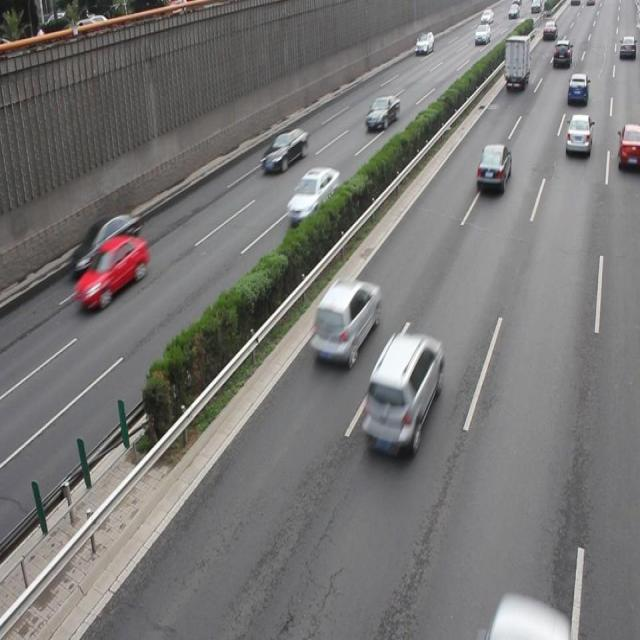car: (358, 329, 442, 457), (309, 275, 379, 365), (73, 234, 148, 308), (71, 211, 141, 276), (286, 164, 338, 221), (262, 126, 307, 176), (475, 142, 510, 192), (365, 95, 399, 129), (564, 113, 591, 155), (617, 123, 640, 170)
